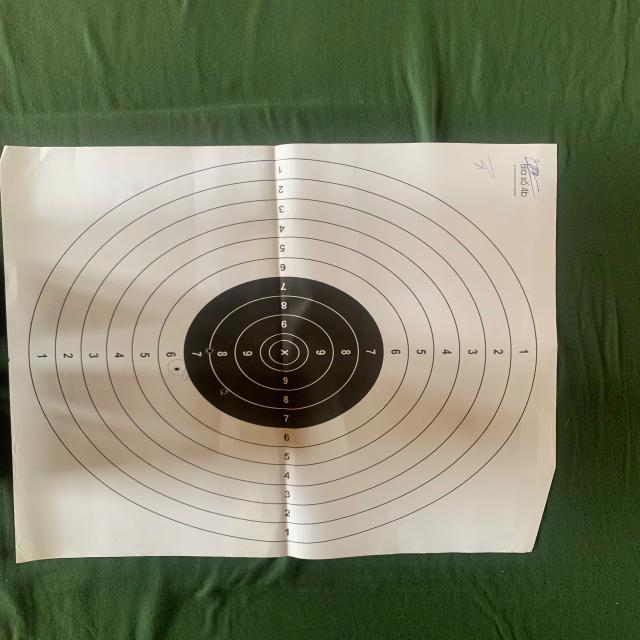bullet: (220, 387, 228, 396), (173, 367, 180, 372), (206, 348, 212, 353)
target: (0, 143, 557, 562)
